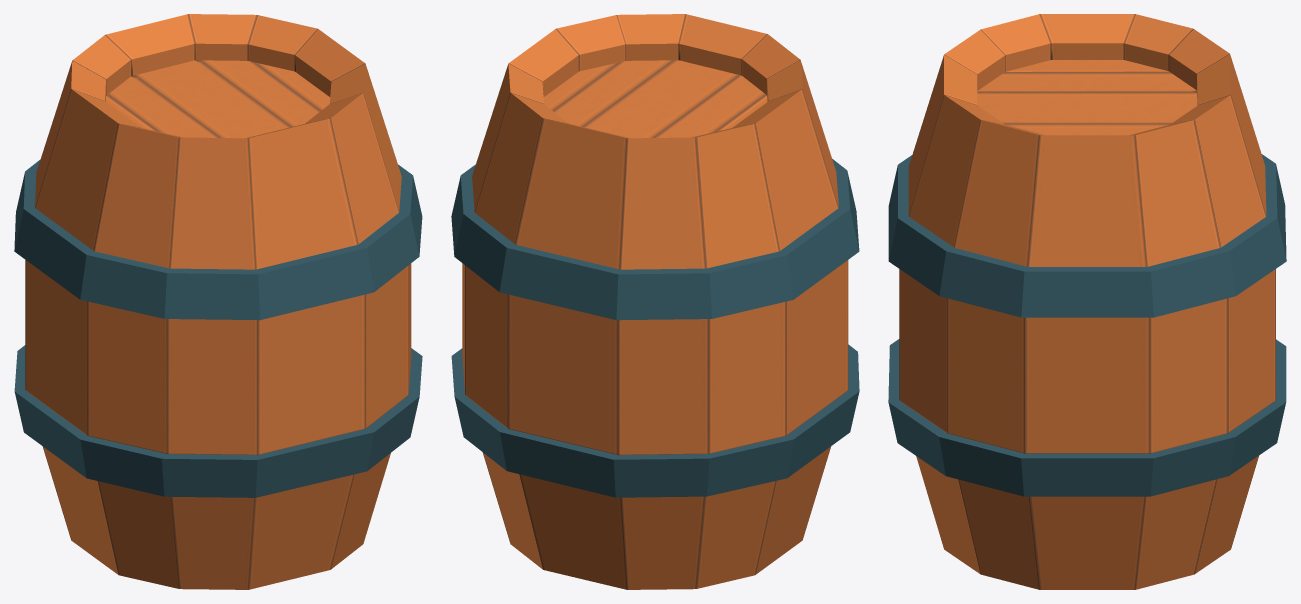
The model's file is Barrel.fbx.
The picture shows the model from 3 angles, left to right: view 1: azimuth 30°, elevation 25°; view 2: azimuth 150°, elevation 25°; view 3: azimuth 270°, elevation 25°; orthographic projection.
Visible parts, largest first — view 1: Barrel; view 2: Barrel; view 3: Barrel.
Boxes of the visible parts, bbox=[...] form: Barrel: bbox=[14, 14, 422, 589]; Barrel: bbox=[451, 14, 859, 589]; Barrel: bbox=[888, 14, 1286, 589].
Bounding box in the file's own units: 136 × 172 × 136.
